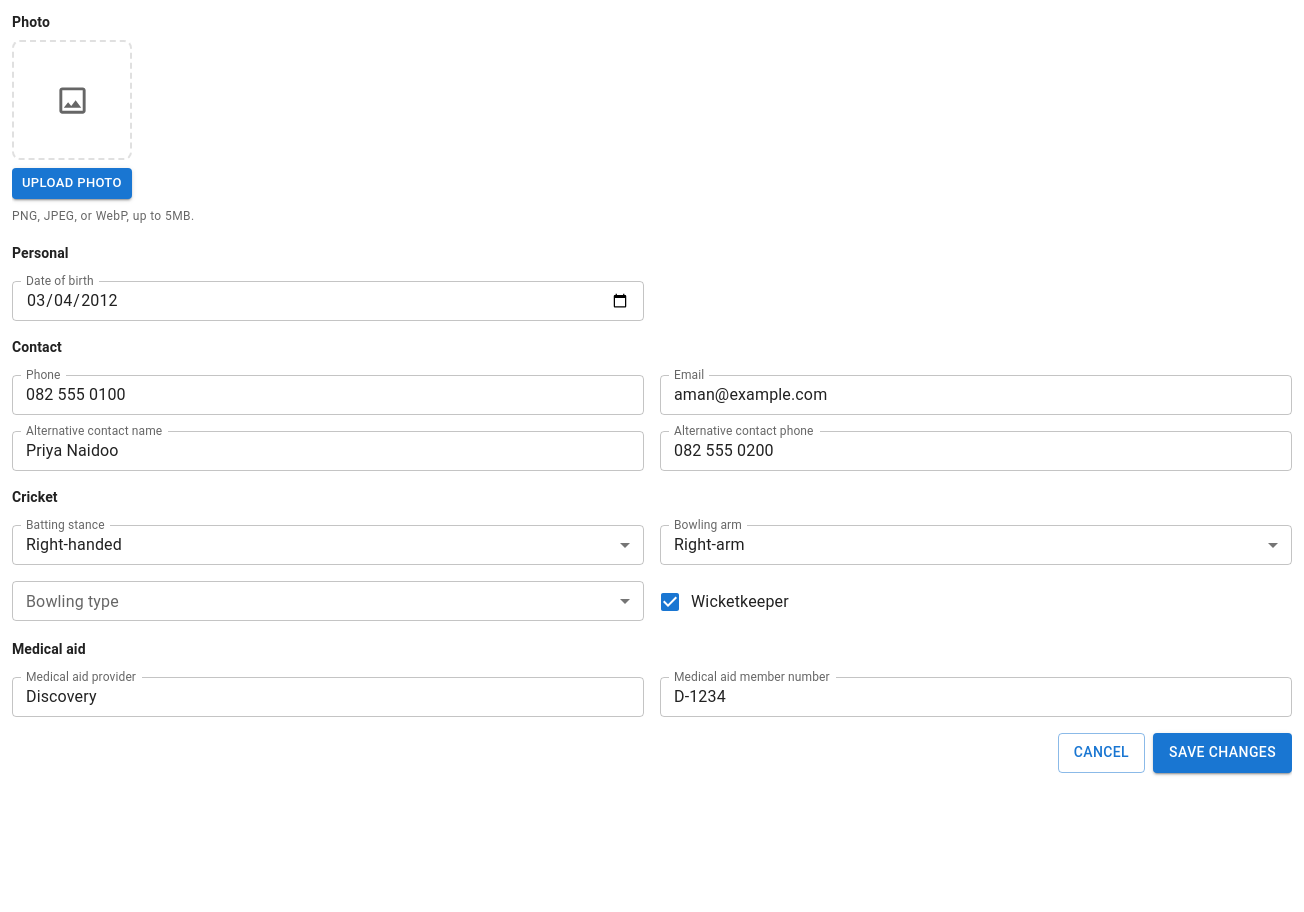
Test: MyPlayerEditForm saving and leaving › explains a refused change (403) and any other failure differently
Step 1. Click the button "Save changes" → (1223, 752), box x1=1153 y1=732 x2=1292 y2=772
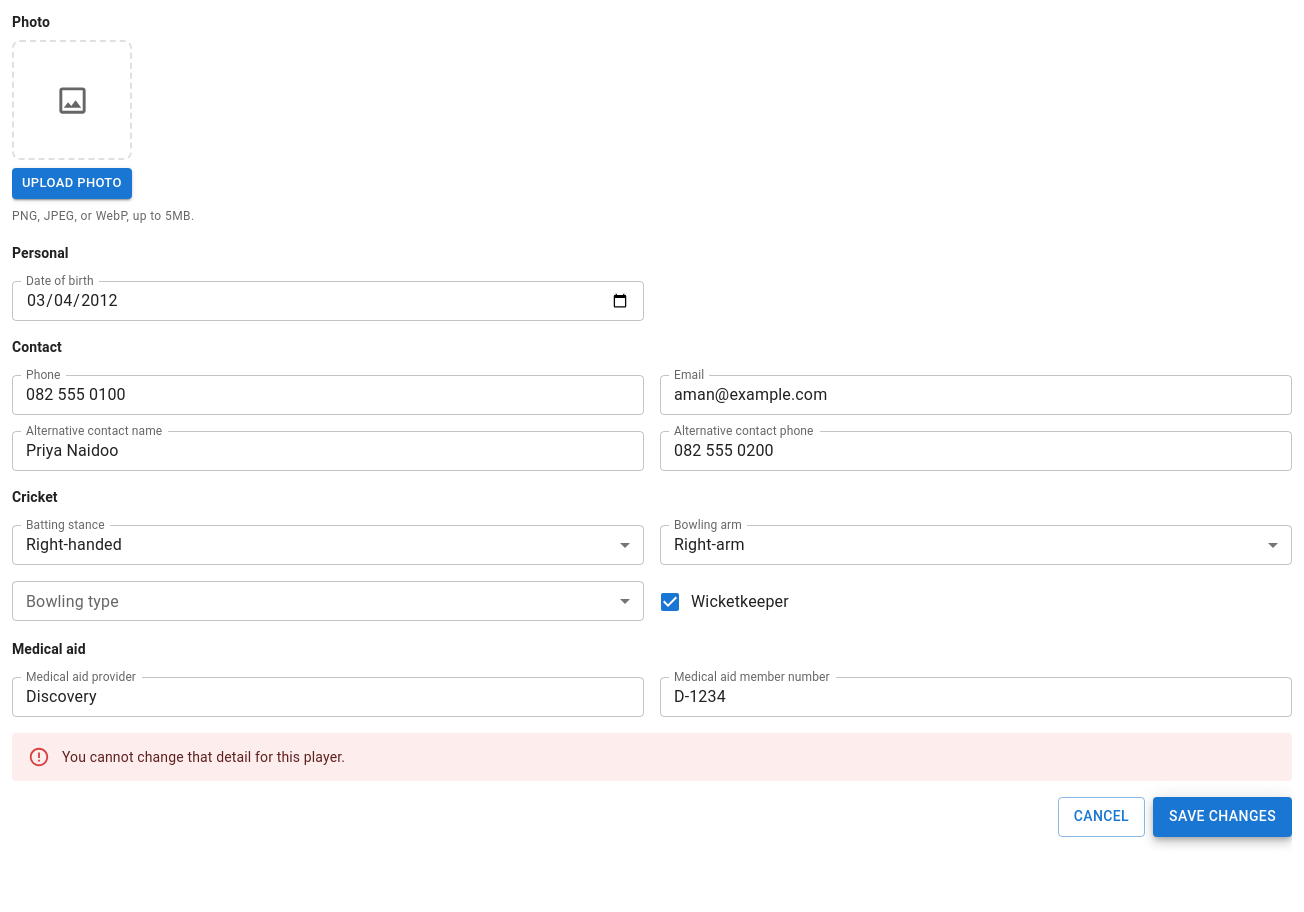
Now the text "You cannot change that detail for this player." is shown, box x1=62 y1=748 x2=345 y2=764
Step 2. Click the button "Save changes" → (1223, 817), box x1=1153 y1=797 x2=1292 y2=837
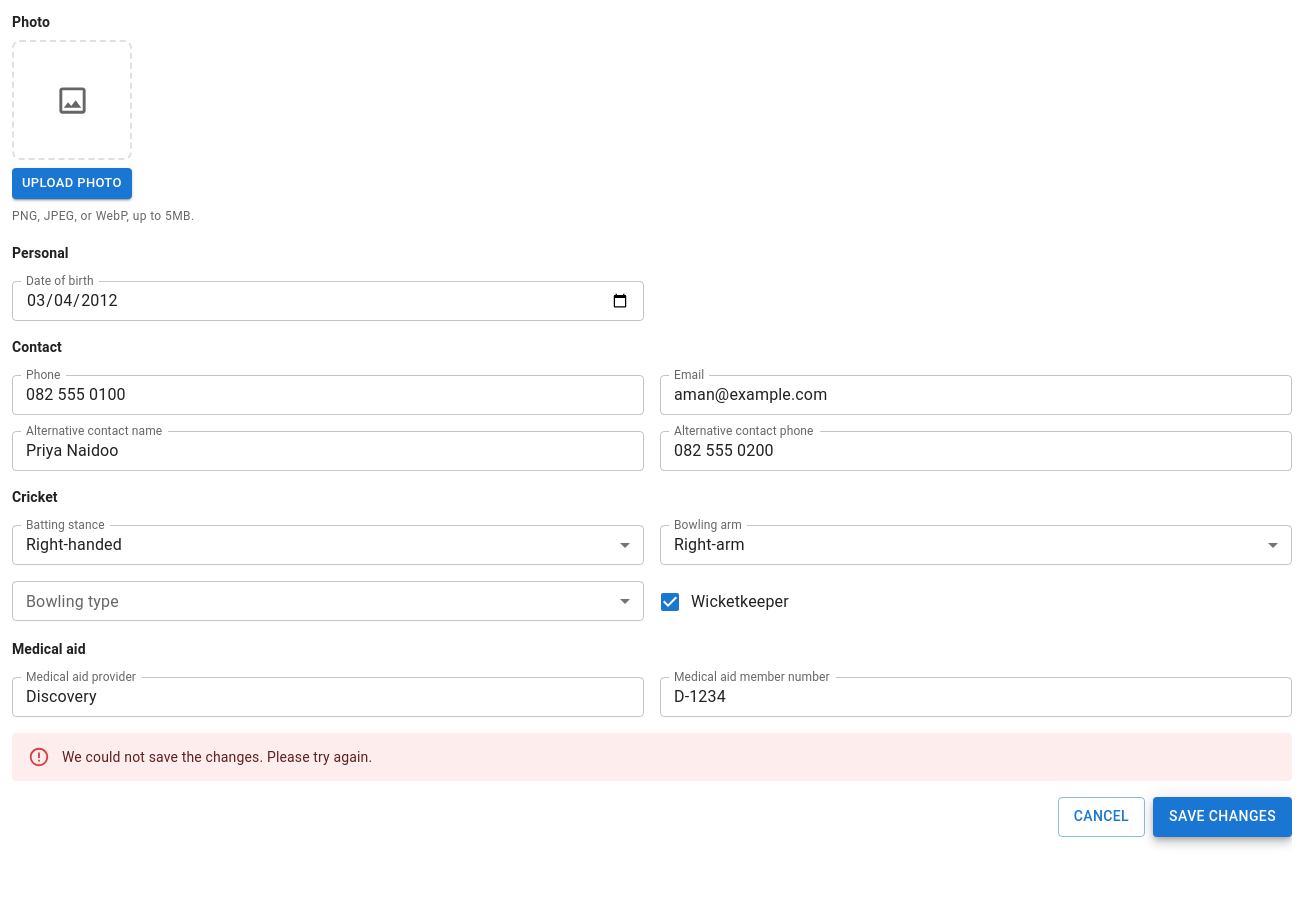
Now the text "We could not save the changes. Please try again." is shown, box x1=62 y1=748 x2=372 y2=764
